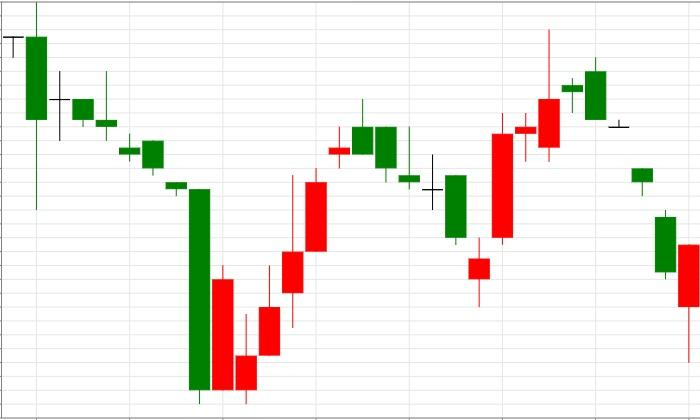morning_star_rise: (352, 99, 513, 308)
three_white_soldiers_rise: (72, 71, 304, 404)
